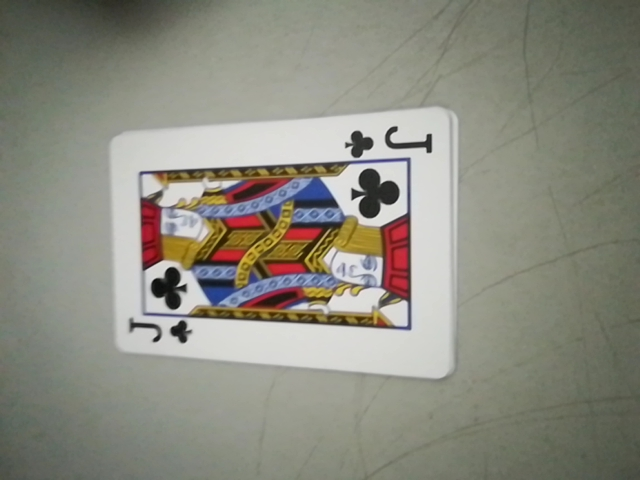mh j: (343, 123, 438, 163), (120, 313, 193, 353)
